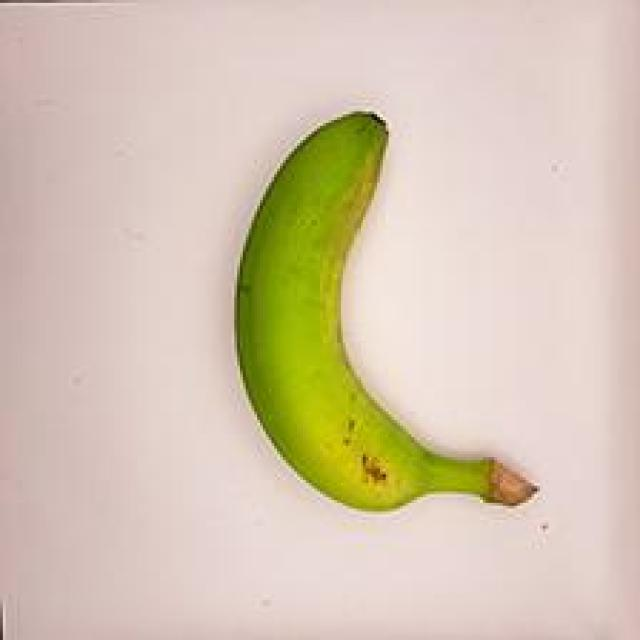Unripe: (205, 82, 559, 542)
